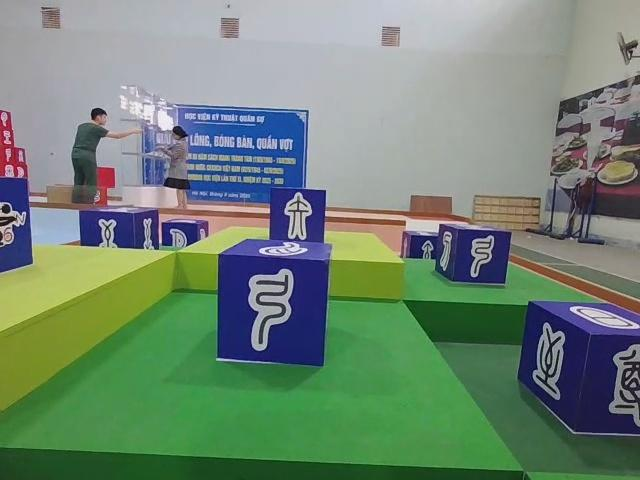R1 Blue: (0, 177, 31, 284)
R2 Fake Blue: (518, 304, 638, 441), (218, 240, 332, 371), (438, 224, 515, 288), (269, 188, 325, 245)
R2 Real Blue: (81, 206, 162, 250), (165, 217, 212, 247), (401, 232, 439, 261)
